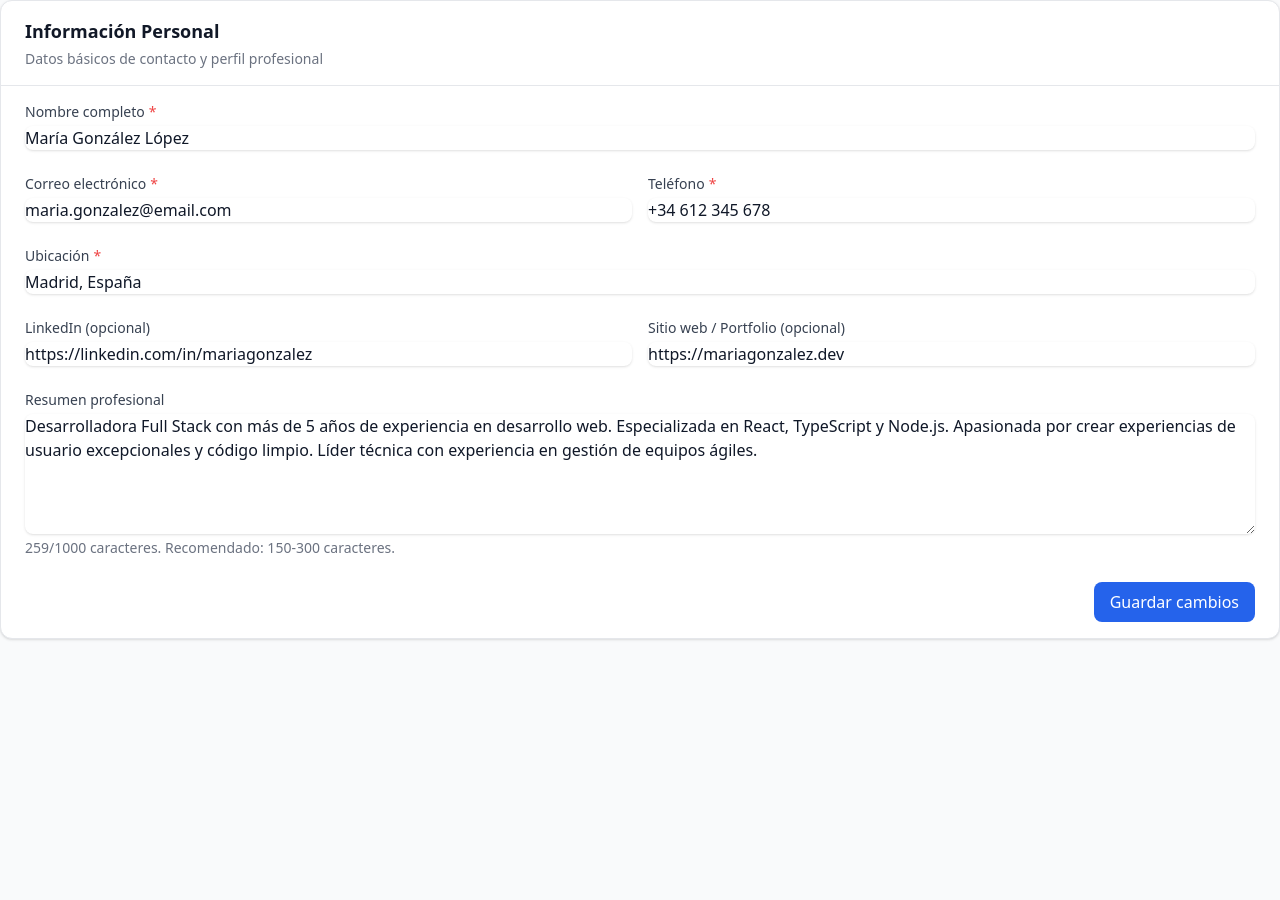
Test: PersonalInfoForm Validation › muestra error cuando el email es inválido
The width and height of the screenshot is (1280, 900).
Replace the text in the field labelled "Correo electrónico*" with "email-invalido". click: (328, 210)
box: [25,198,632,222]
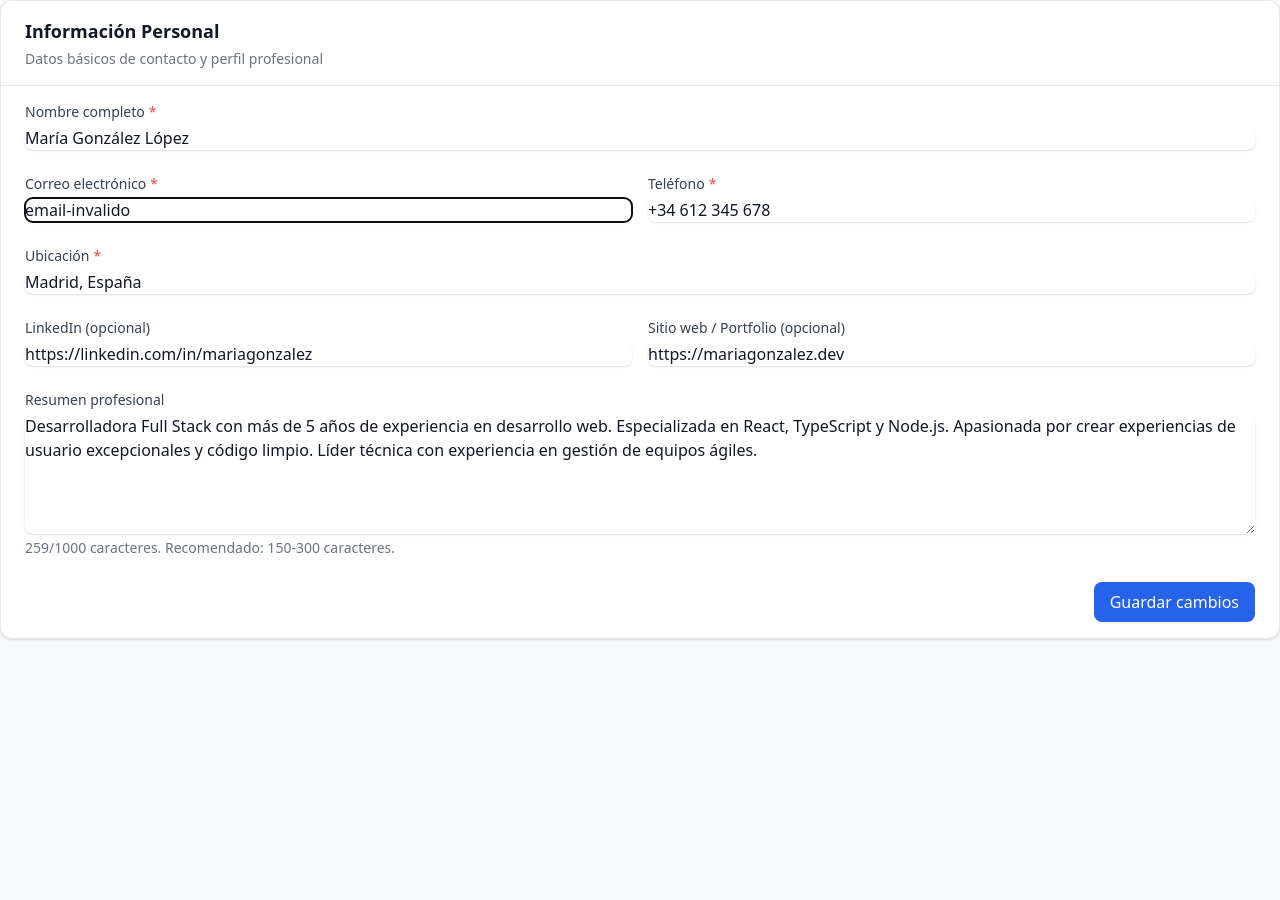
Press Tab
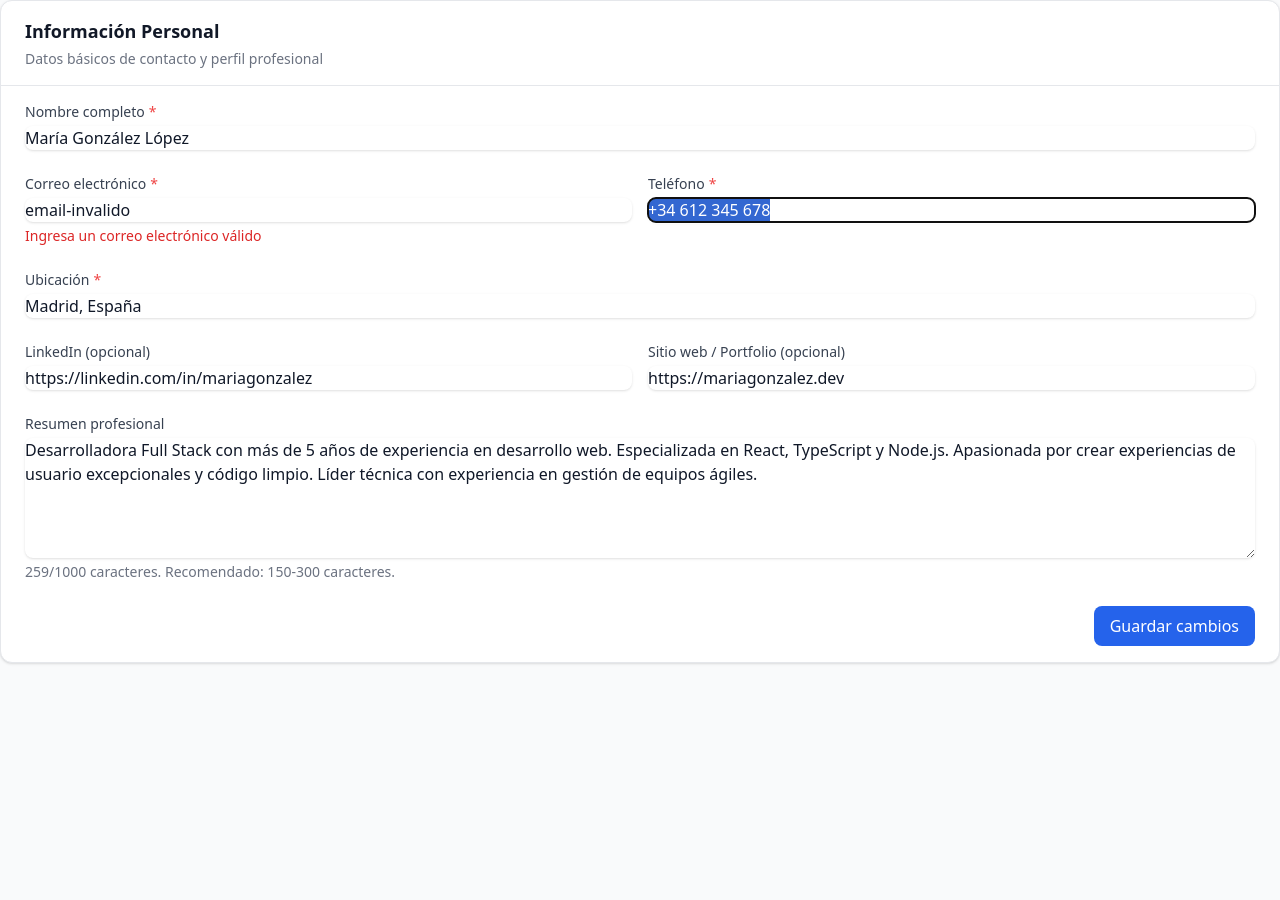
expect the message shows "correo electrónico válido": met, box [25,226,262,245]
